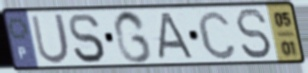A: (154, 11, 197, 61)
C: (195, 8, 239, 62)
G: (111, 9, 154, 66)
S: (66, 12, 108, 65), (233, 7, 274, 61)
U: (29, 11, 72, 66)
